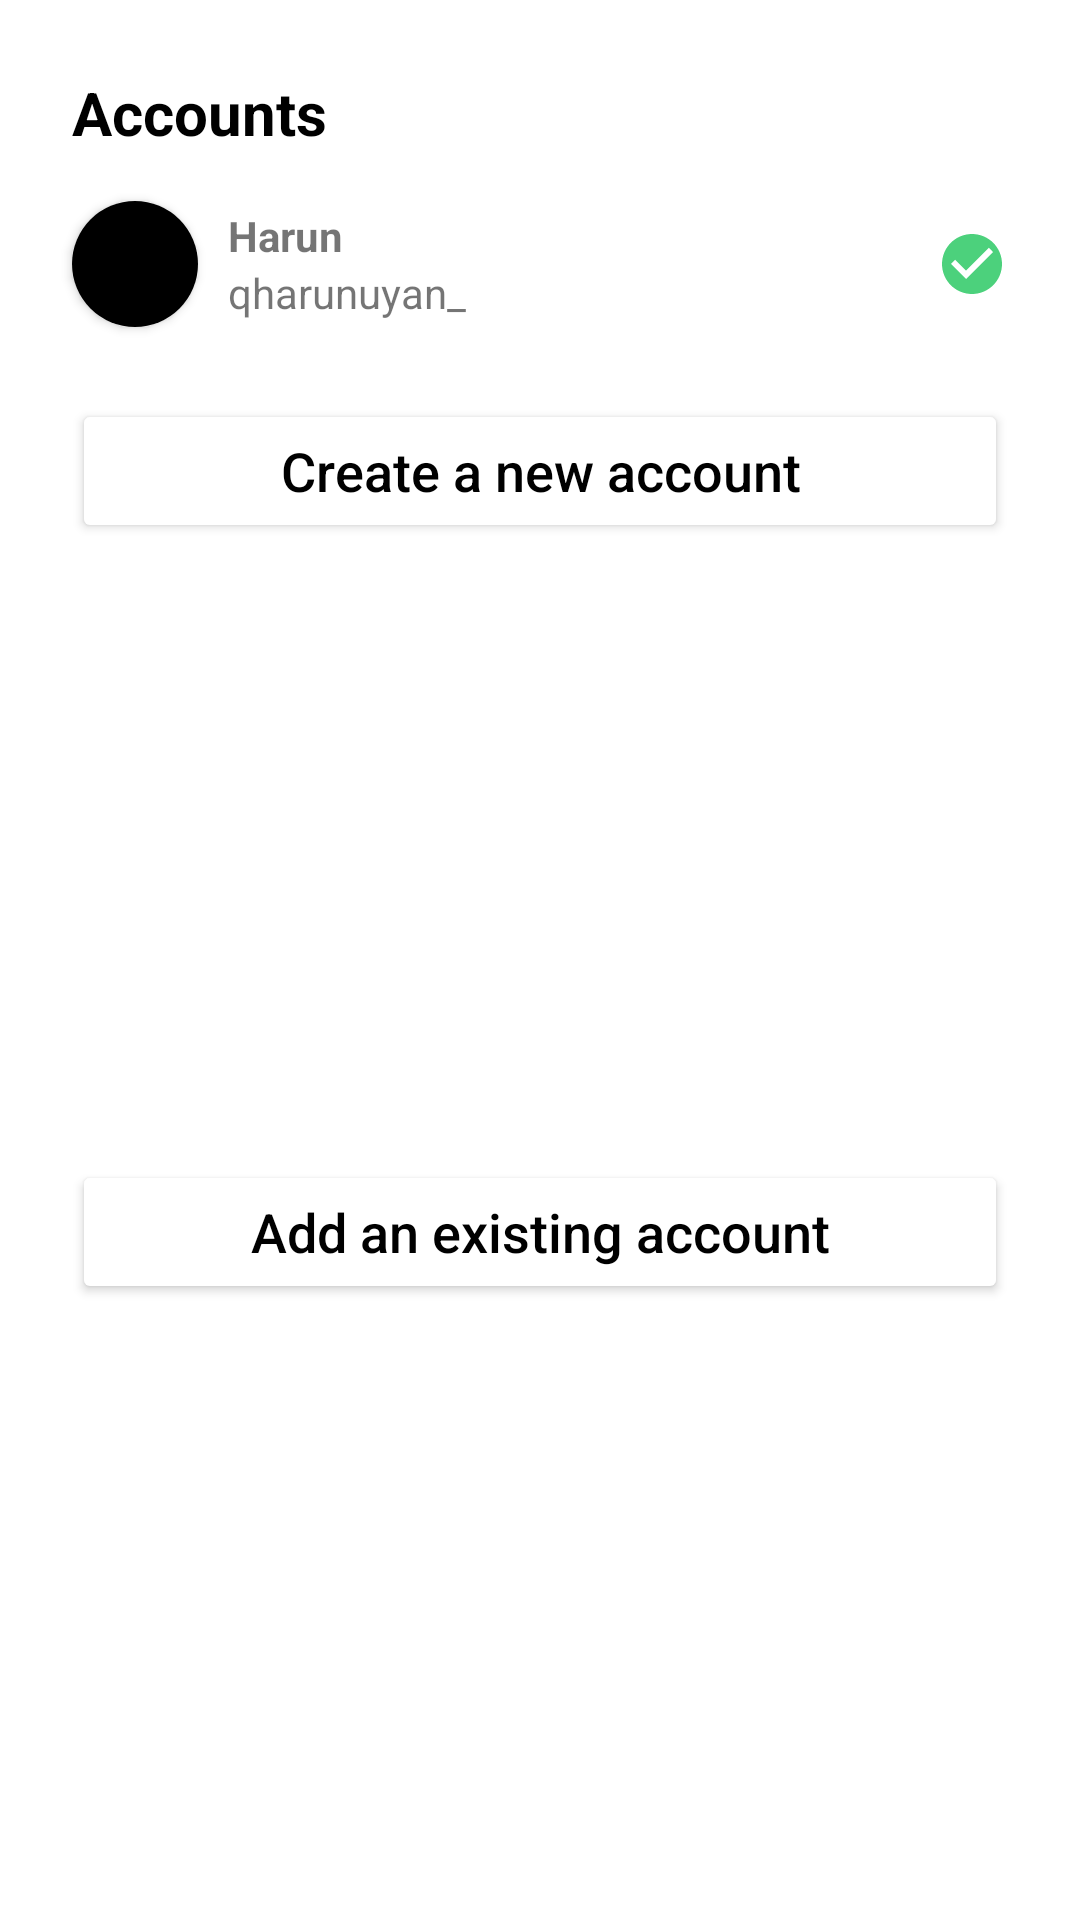

Screen size 1080 × 1920. Icon name, then its box in pixels as {"x1": x1, "y1": y1, "x2": x2, "y2": y2}:
check: {"x1": 942, "y1": 234, "x2": 1002, "y2": 294}
